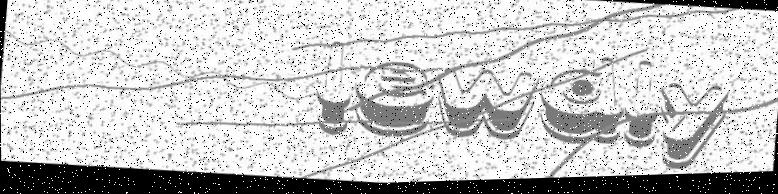d: (536, 55, 628, 152)
e: (351, 59, 437, 144)
l: (313, 41, 356, 137), (623, 62, 663, 153)
w: (434, 68, 539, 146)
y: (653, 85, 731, 177)
